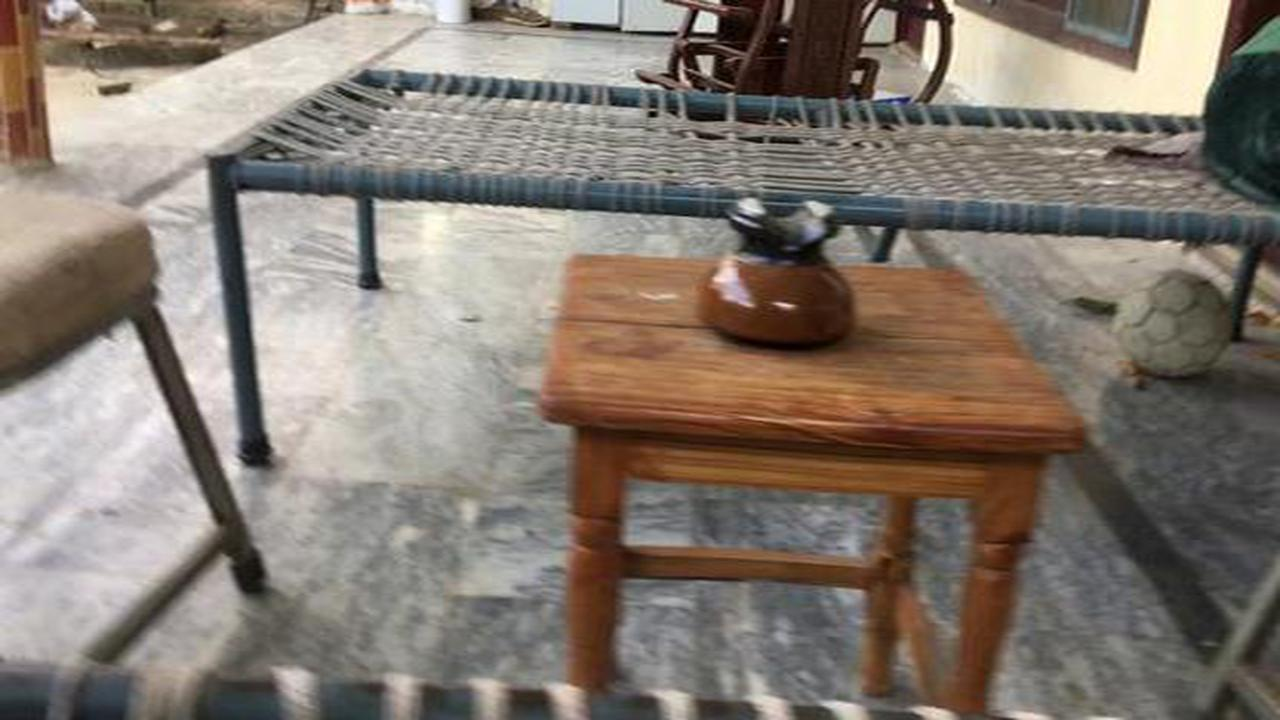insulator_pin: (677, 181, 887, 364)
